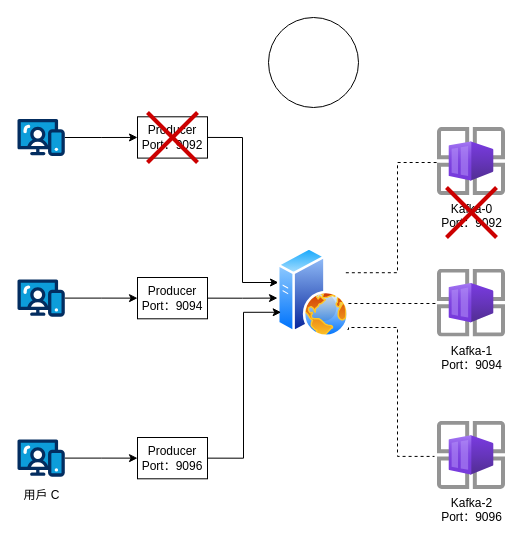
The diagram is 523 pixels wide and 543 high, and some of its shapes have lost their labels. The shapes that lost their labels are listed below. From the top down, each one's centre as x and y in pixels, then its label:
(313,62): 2. 關閉容器 Kafka-0
(40,137): 用戶 A
(40,297): 用戶 B
(313,292): 伺服器: 192.168.51.28
